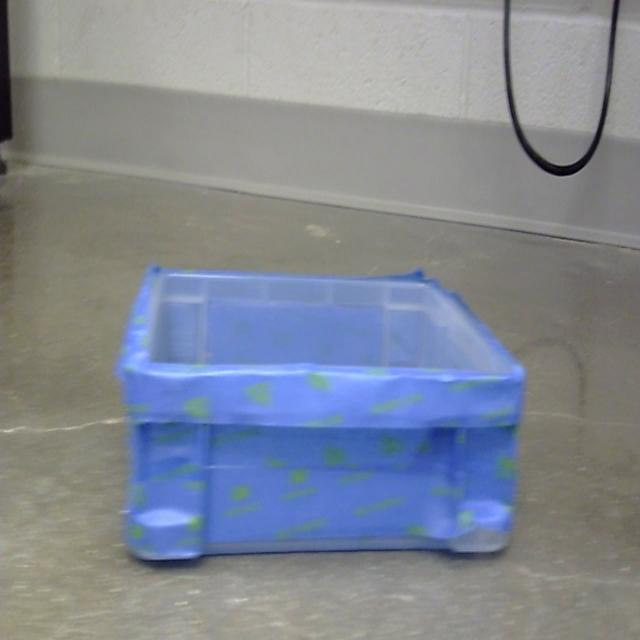bucket: (116, 264, 526, 569)
